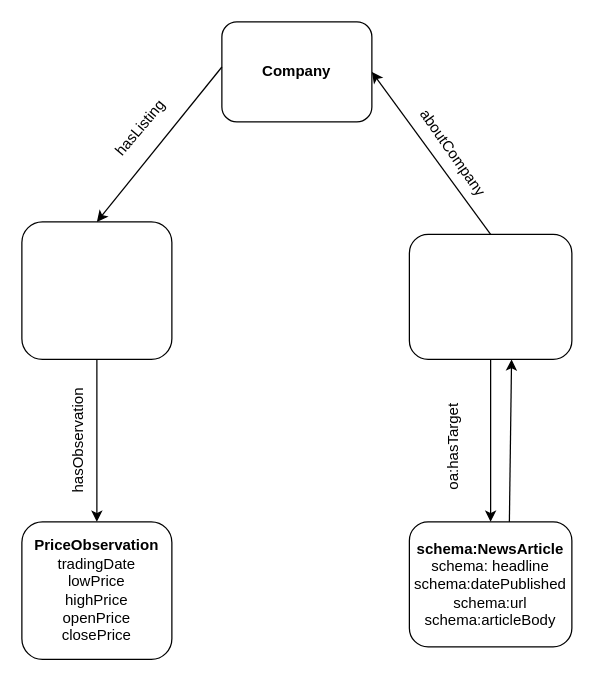
Image size: 594x681. Some labels were removed from this diagram. Here are the shapes that lost their labels. From the top down, the box of each, then its label:
(21, 221, 172, 359): StockListing ticker currency
(408, 233, 572, 359): oa:Annotation oa:bodyValue oa:motivatedBy
